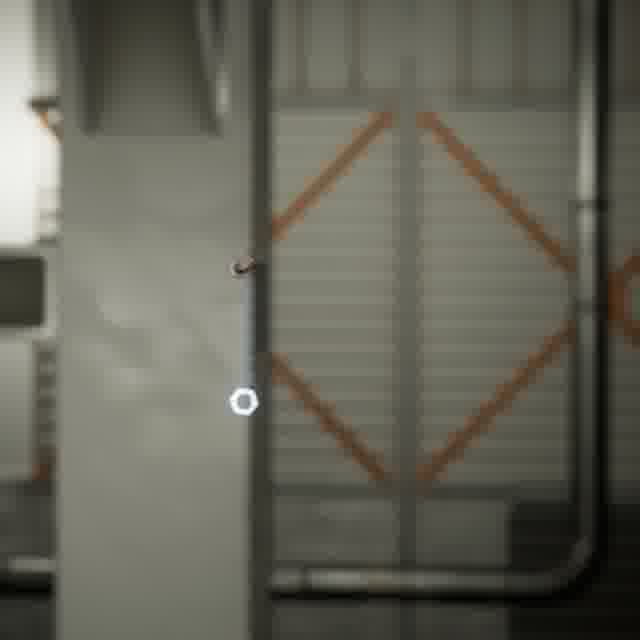bolt: (223, 250, 258, 282)
nut: (223, 382, 264, 420)
